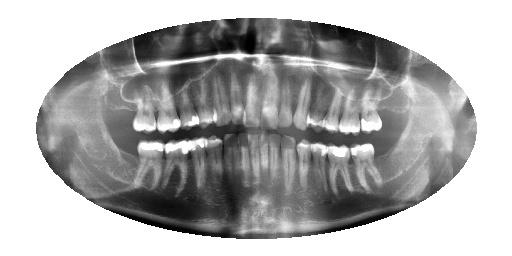i10healthy: (235, 132, 252, 205)
i11healthy: (220, 129, 238, 197)
i12healthy: (200, 127, 223, 204)
i13healthy: (186, 132, 207, 201)
i14healthy: (159, 138, 190, 202)
i15healthy: (131, 134, 170, 198)
i2healthy: (346, 136, 389, 199)
i3healthy: (323, 138, 355, 205)
i4healthy: (306, 137, 331, 205)
i5healthy: (292, 135, 314, 206)
i6healthy: (276, 131, 300, 198)
i7healthy: (263, 131, 285, 201)
i8healthy: (254, 127, 269, 203)
i9healthy: (246, 127, 257, 207)
u10healthy: (224, 62, 250, 131)
u11healthy: (210, 71, 233, 132)
u12healthy: (189, 67, 220, 130)
u13healthy: (171, 74, 203, 132)
u14healthy: (148, 82, 183, 137)
u15healthy: (125, 84, 161, 136)
u2healthy: (356, 78, 385, 137)
u3healthy: (335, 74, 364, 136)
u4healthy: (319, 81, 343, 139)
u5healthy: (303, 73, 331, 133)
u6healthy: (291, 69, 314, 135)
u7healthy: (274, 63, 296, 135)
u8healthy: (258, 64, 279, 132)
u9healthy: (238, 61, 264, 130)
